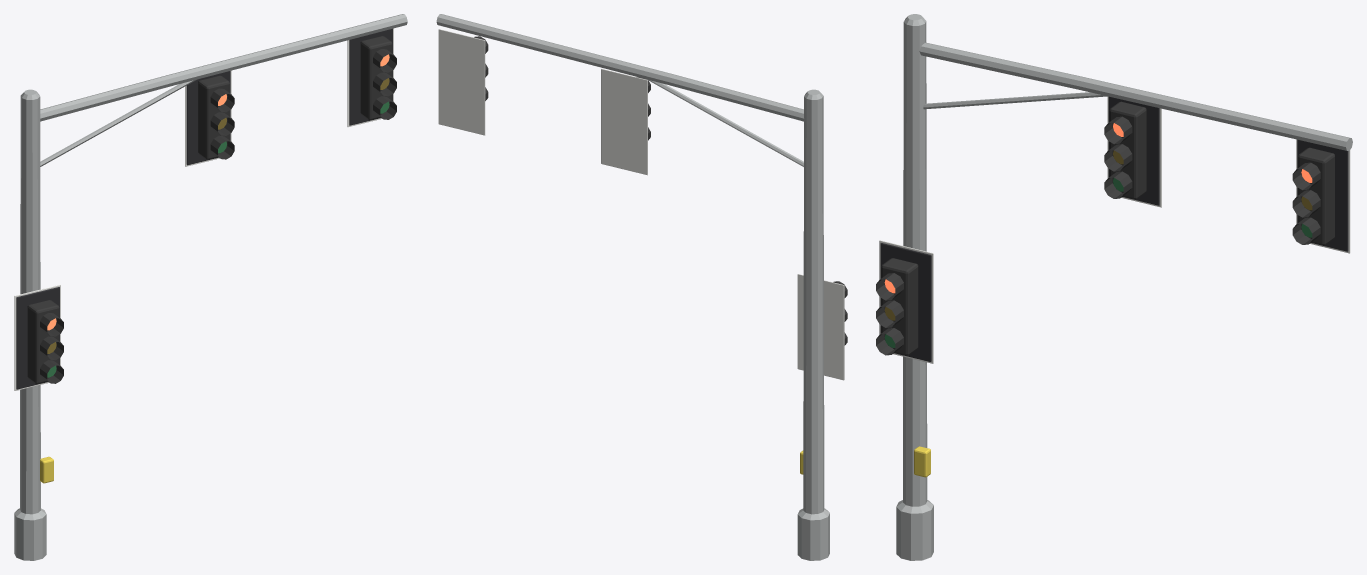
The model's file is traffic_light.glb.
3 views of the same model, side by side, from view 1: azimuth 30°, elevation 25°; view 2: azimuth 150°, elevation 25°; view 3: azimuth 330°, elevation 25° (orthographic). The views are drawn at different scales.
Parts seen in each view (by area): view 1: traffic_light; view 2: traffic_light; view 3: traffic_light.
Boxes of the visible parts, bbox=[...] form: traffic_light: bbox=[14, 14, 407, 560]; traffic_light: bbox=[436, 14, 847, 560]; traffic_light: bbox=[876, 14, 1352, 560].
Size of the model in its own units: 5.63 by 6.25 by 0.8102.
